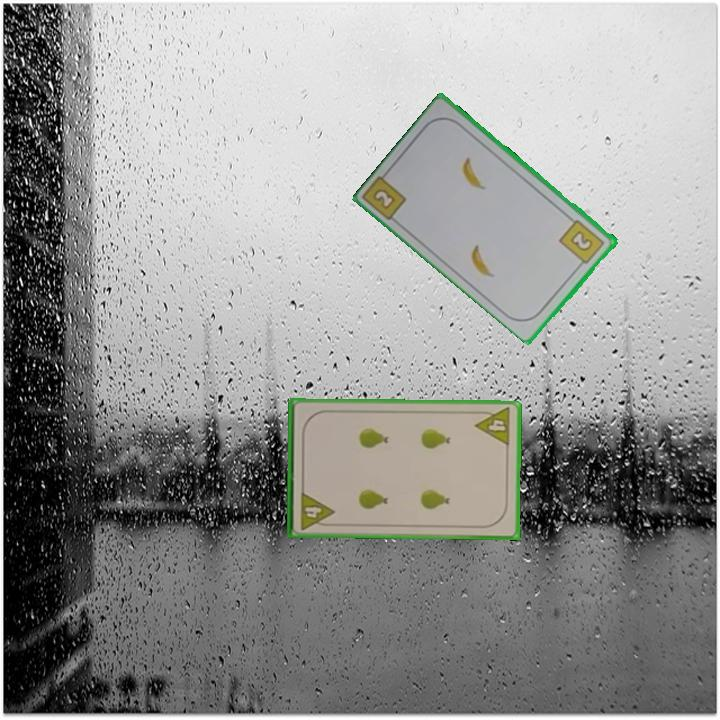2b: (556, 216, 608, 270), (370, 185, 399, 212)
4p: (472, 404, 513, 449), (297, 488, 336, 532)
